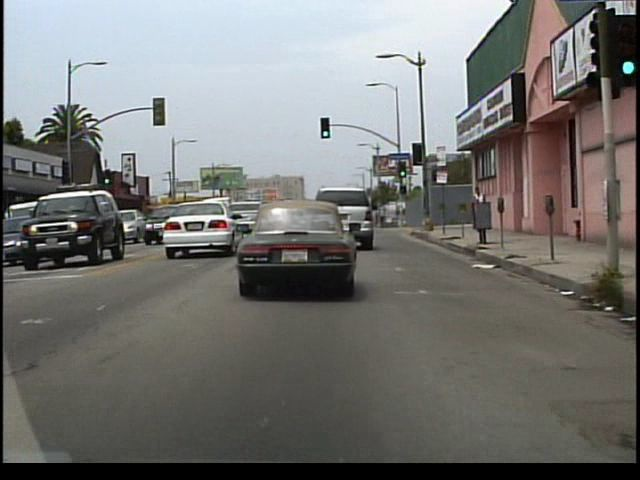person: (471, 183, 490, 232)
